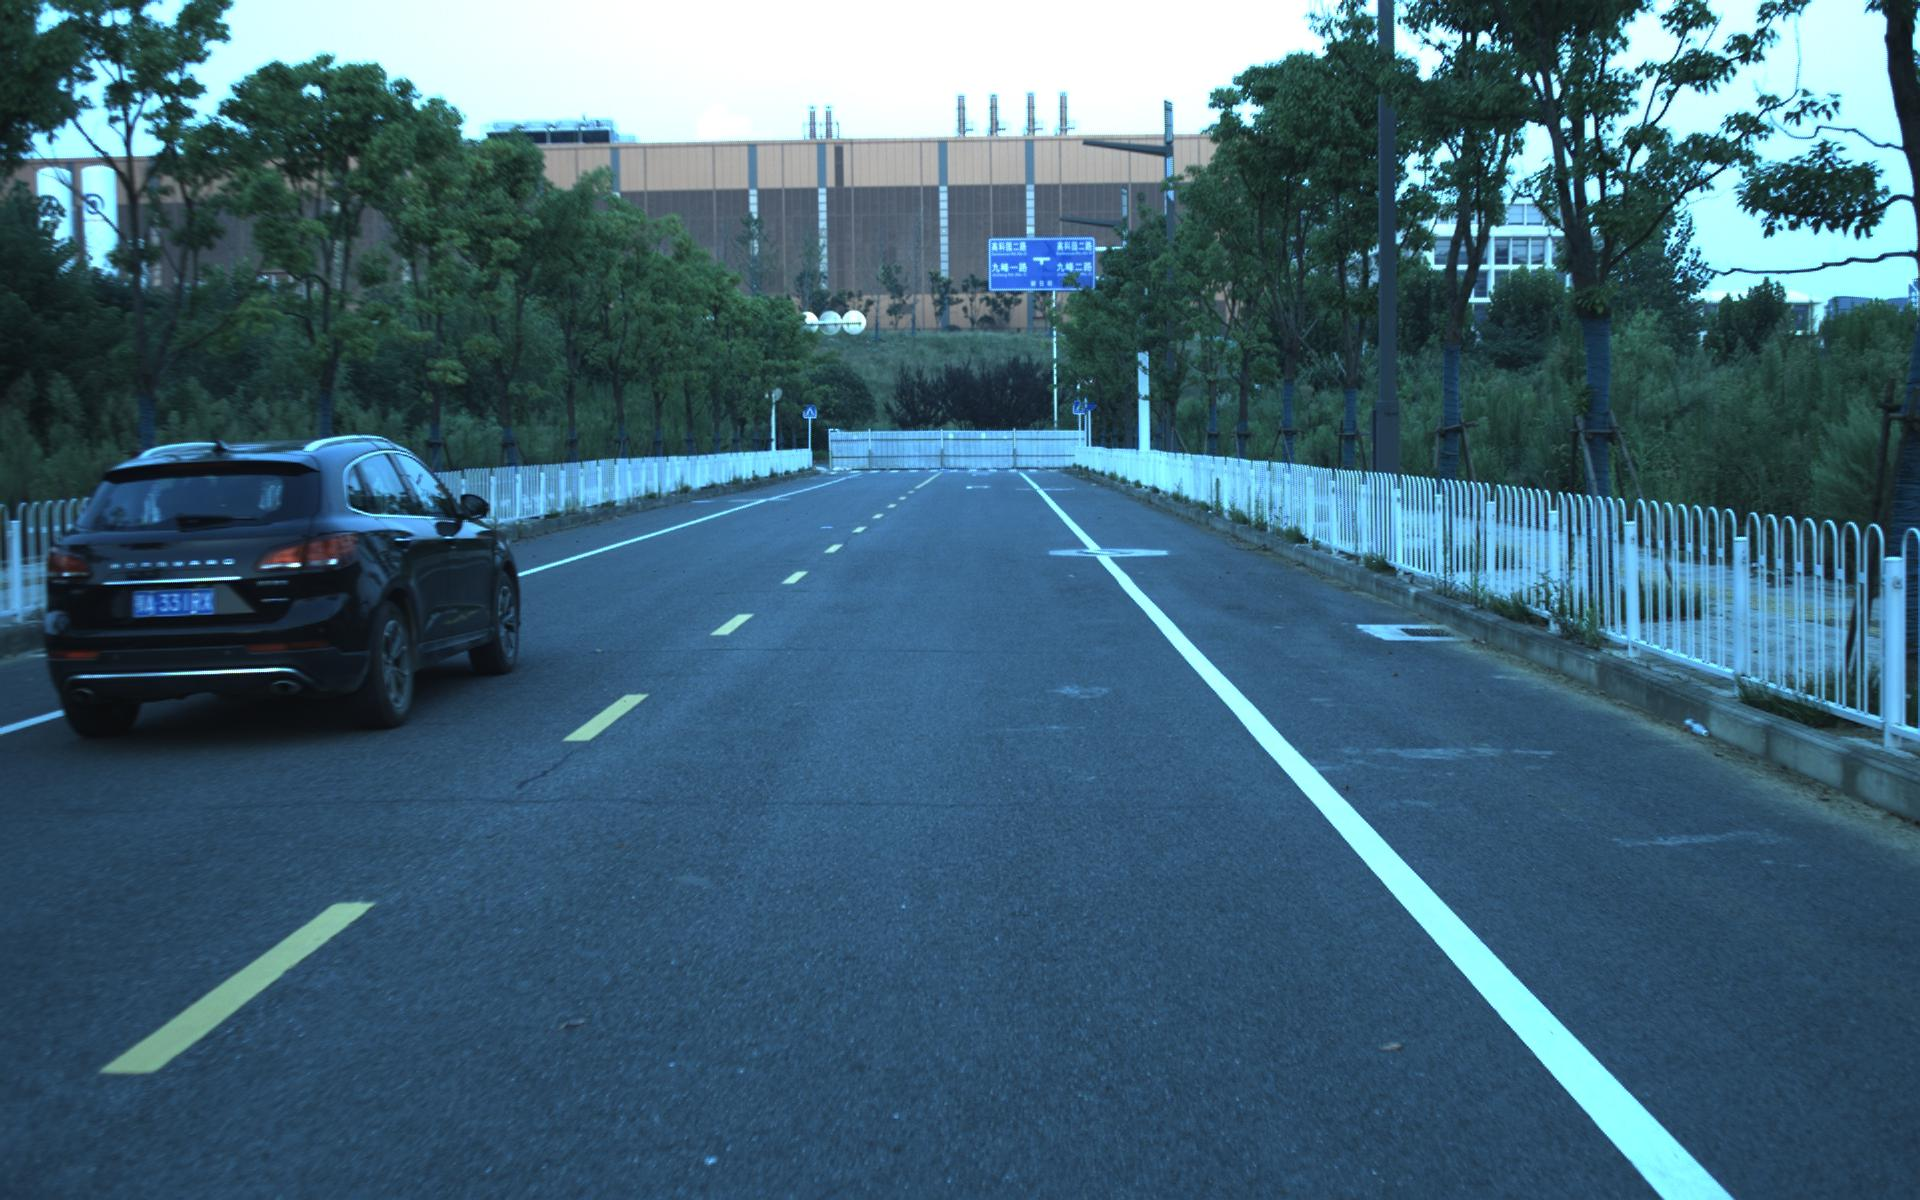Car: (22, 422, 527, 742)
